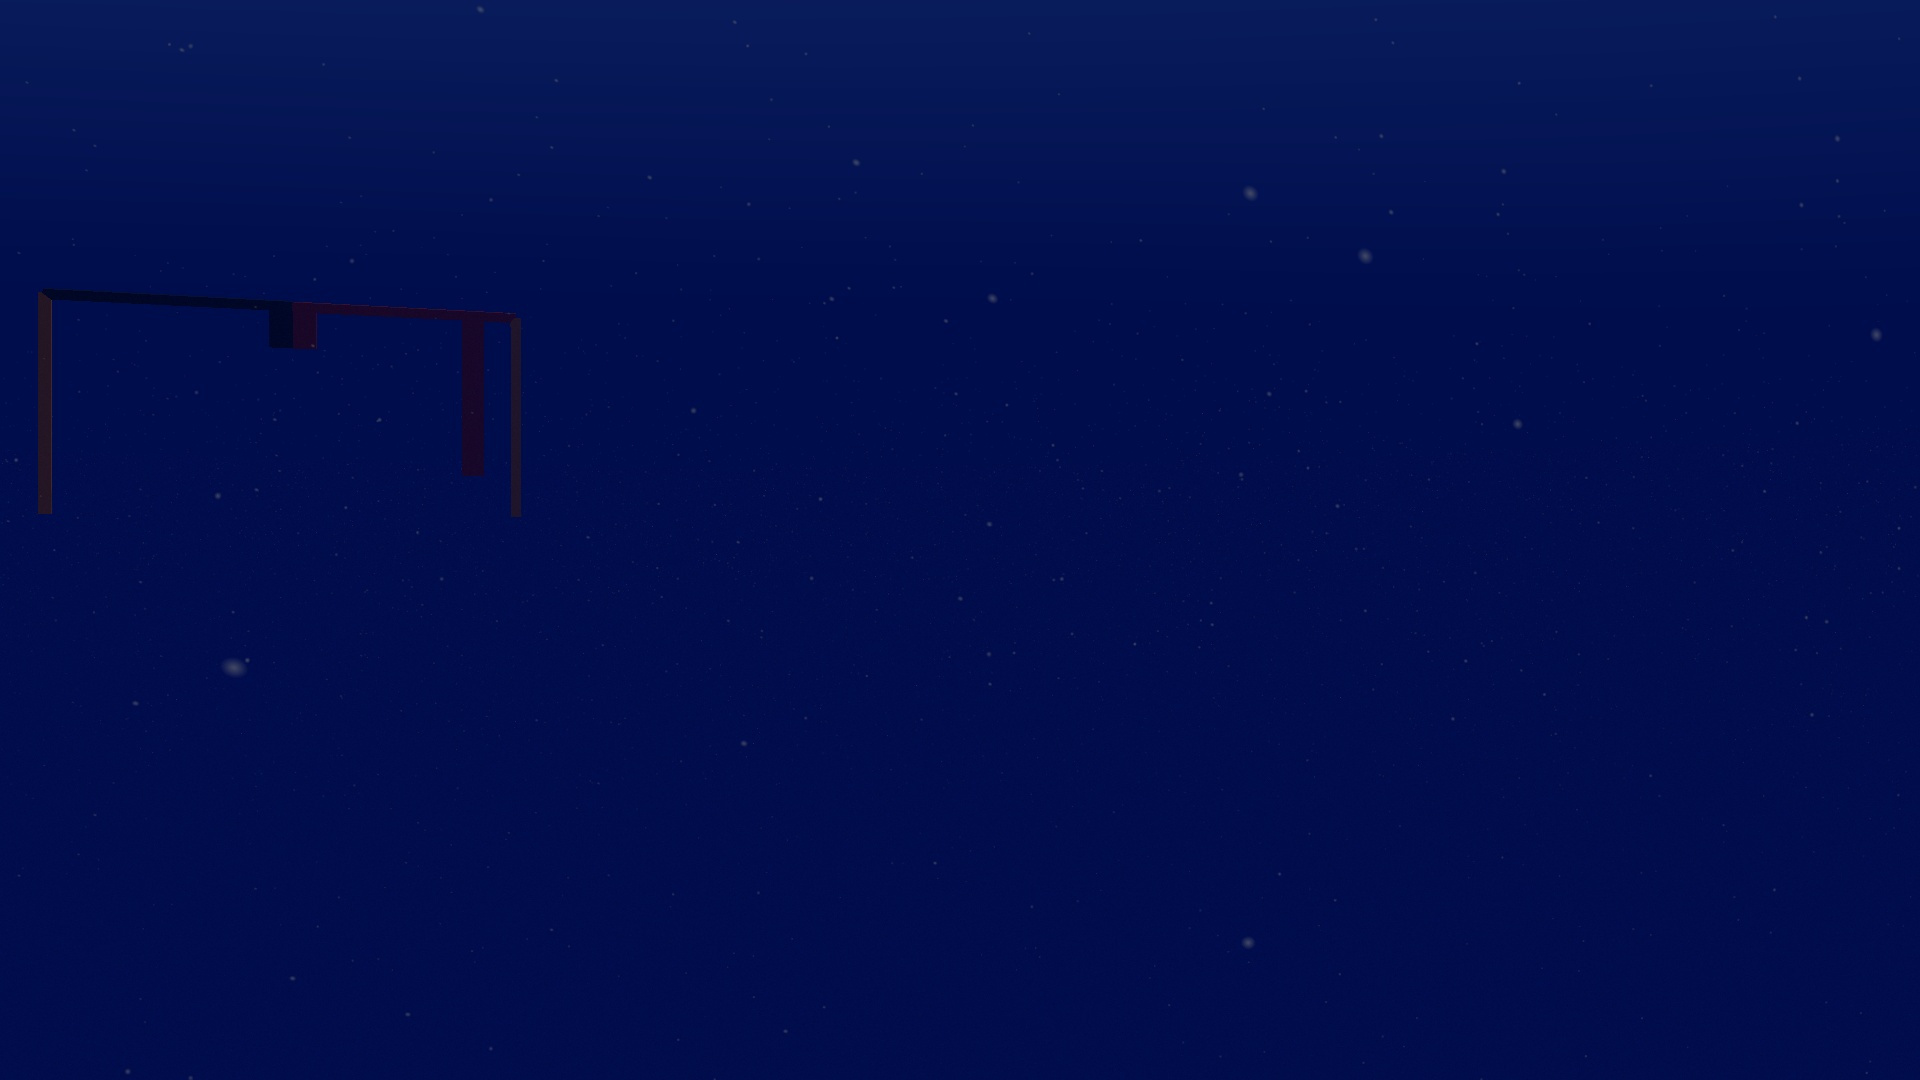Gate: (32, 277, 529, 530)
